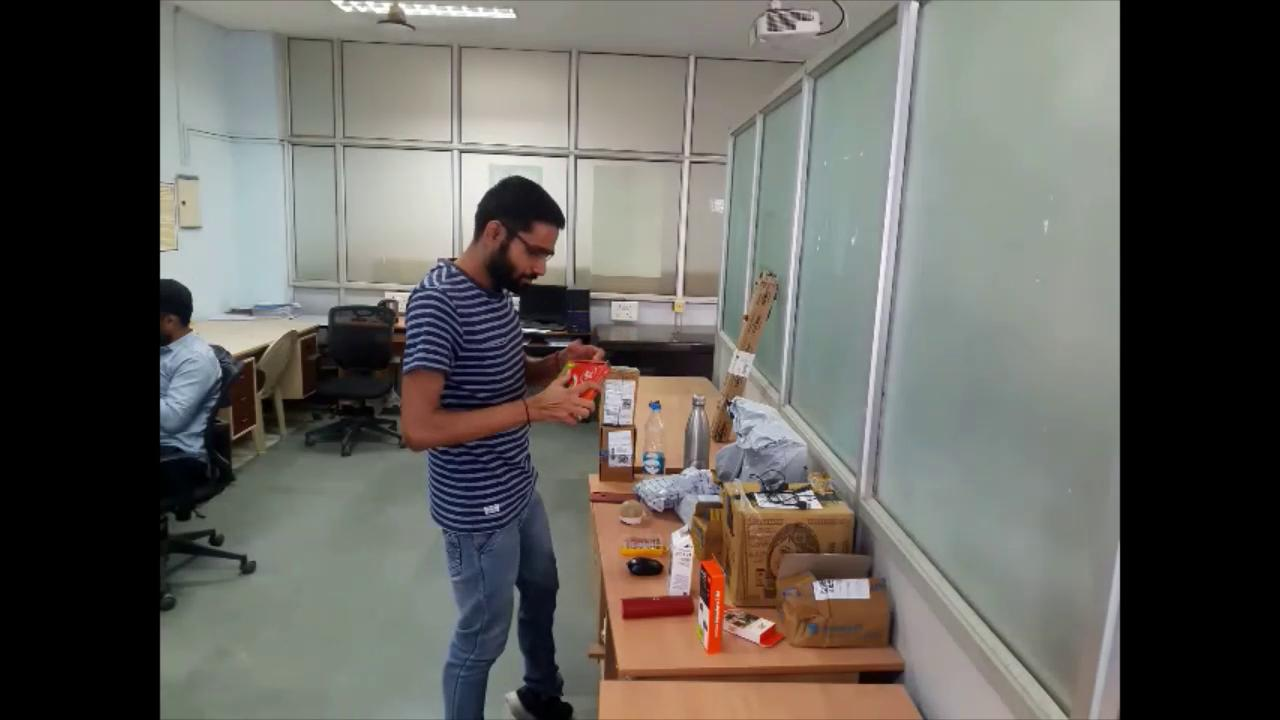Normal: (384, 175, 616, 720)
